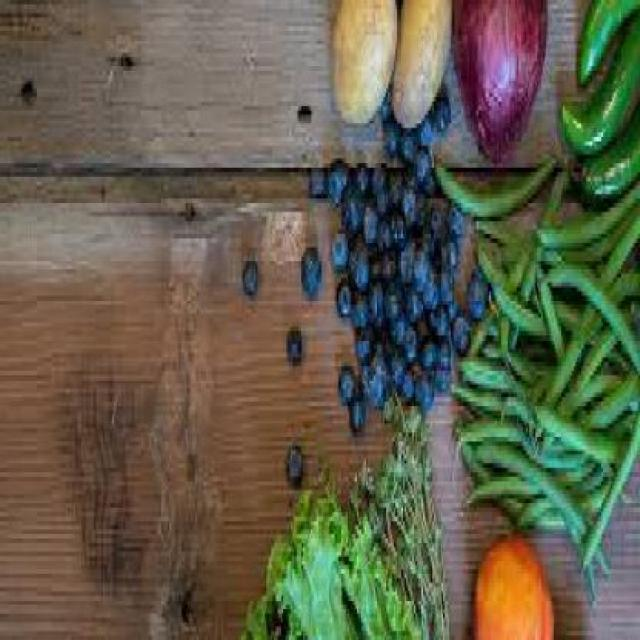BIODEGRADABLE: (353, 392, 449, 636), (475, 437, 611, 574), (546, 206, 639, 399), (248, 486, 355, 636), (457, 0, 554, 160), (458, 424, 598, 525), (564, 12, 638, 160), (343, 503, 423, 635), (548, 255, 638, 358), (583, 406, 639, 571), (477, 534, 557, 635), (438, 150, 559, 216), (334, 0, 400, 120), (394, 0, 455, 128), (563, 309, 631, 423), (473, 233, 535, 344), (496, 468, 613, 521), (537, 402, 631, 463), (580, 111, 638, 206), (578, 0, 638, 82), (570, 362, 638, 432), (466, 463, 582, 503), (508, 336, 603, 379), (566, 490, 600, 596), (504, 256, 544, 344), (489, 265, 546, 326), (518, 432, 592, 472), (459, 410, 526, 450), (450, 345, 512, 380), (366, 340, 394, 406), (452, 380, 505, 406), (303, 242, 322, 301), (471, 265, 489, 326), (401, 220, 419, 278), (373, 154, 390, 212), (329, 154, 349, 203), (403, 313, 423, 362), (424, 207, 444, 256), (344, 186, 364, 234), (350, 243, 372, 286), (414, 243, 432, 295), (443, 224, 460, 274), (423, 266, 443, 308), (243, 252, 262, 296), (371, 274, 387, 326), (287, 442, 307, 482), (428, 291, 450, 327), (388, 274, 406, 317), (406, 278, 425, 318), (354, 288, 372, 330), (404, 182, 422, 224), (334, 224, 352, 264), (419, 335, 439, 371), (419, 371, 436, 411), (419, 141, 436, 181), (340, 274, 355, 317), (342, 362, 358, 402), (455, 313, 471, 353), (393, 208, 409, 248), (438, 88, 454, 128), (364, 200, 379, 242), (450, 194, 468, 229), (419, 185, 435, 221), (312, 163, 330, 194), (358, 327, 376, 358), (392, 313, 410, 344), (384, 238, 401, 270), (404, 128, 422, 158), (393, 348, 410, 379), (421, 110, 436, 145), (351, 388, 364, 428), (390, 111, 402, 154), (394, 160, 406, 202), (356, 159, 372, 190), (291, 322, 303, 362), (385, 84, 397, 119), (441, 331, 454, 362), (441, 274, 456, 300), (405, 366, 417, 397), (451, 292, 462, 322), (438, 362, 450, 388), (383, 216, 395, 242), (408, 159, 419, 181)
